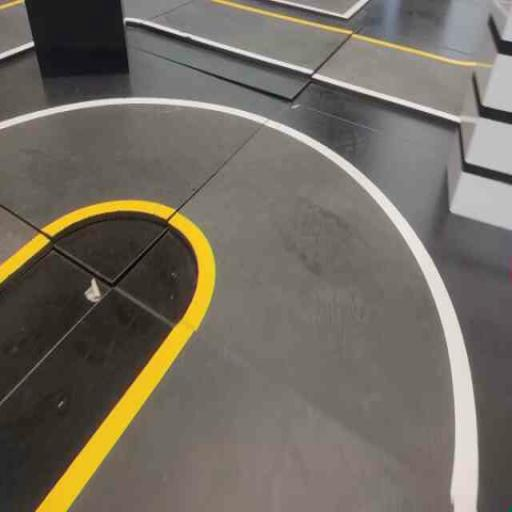left: (111, 110, 500, 502)
